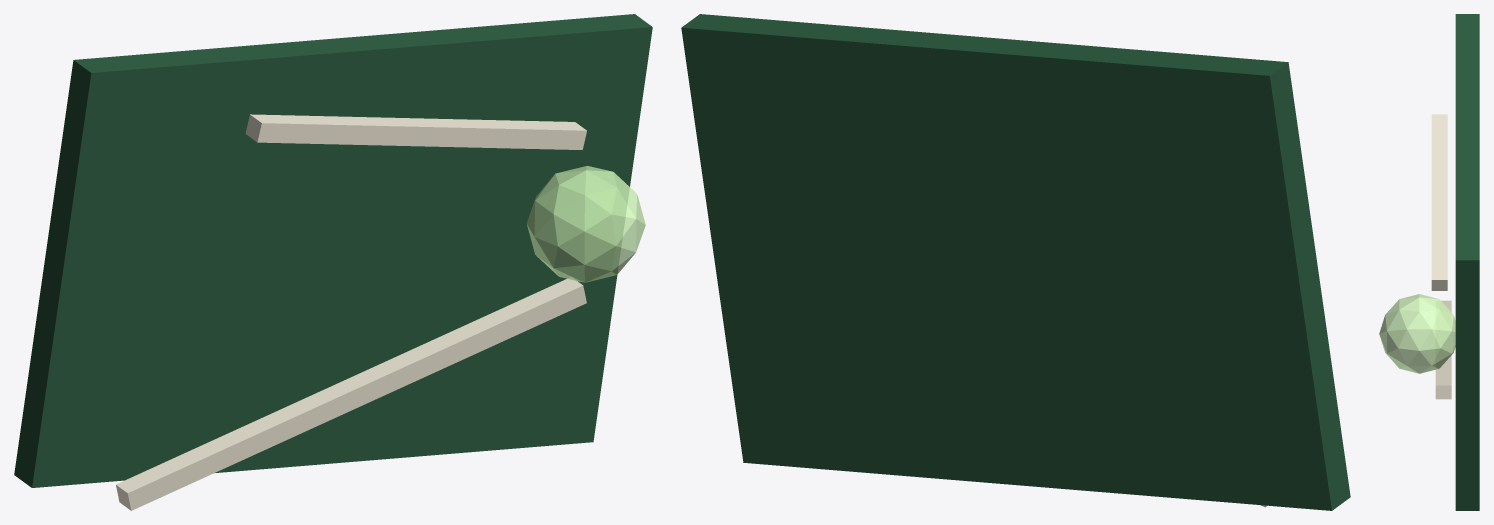
File: 02_world_prop_polish.glb
The picture shows the model from 3 angles, left to right: view 1: azimuth 30°, elevation 25°; view 2: azimuth 150°, elevation 25°; view 3: azimuth 270°, elevation 25°; orthographic projection. The views are drawn at different scales.
Visible parts, largest first — view 1: object_overlay_plate, edge_wear_a, glow_socket, edge_wear_b; view 2: object_overlay_plate; view 3: object_overlay_plate, glow_socket, edge_wear_b, edge_wear_a.
Part boxes in pixels (left/top/right/bottom): object_overlay_plate: left=14, top=14, right=652, bottom=487; edge_wear_a: left=116, top=277, right=586, bottom=510; glow_socket: left=526, top=166, right=645, bottom=282; edge_wear_b: left=245, top=114, right=586, bottom=149; object_overlay_plate: left=681, top=14, right=1350, bottom=510; object_overlay_plate: left=1455, top=14, right=1479, bottom=510; glow_socket: left=1379, top=294, right=1455, bottom=373; edge_wear_b: left=1431, top=114, right=1447, bottom=290; edge_wear_a: left=1435, top=300, right=1451, bottom=399.
Bounding box in the file's own units: 1.2 × 0.9096 × 0.25.
